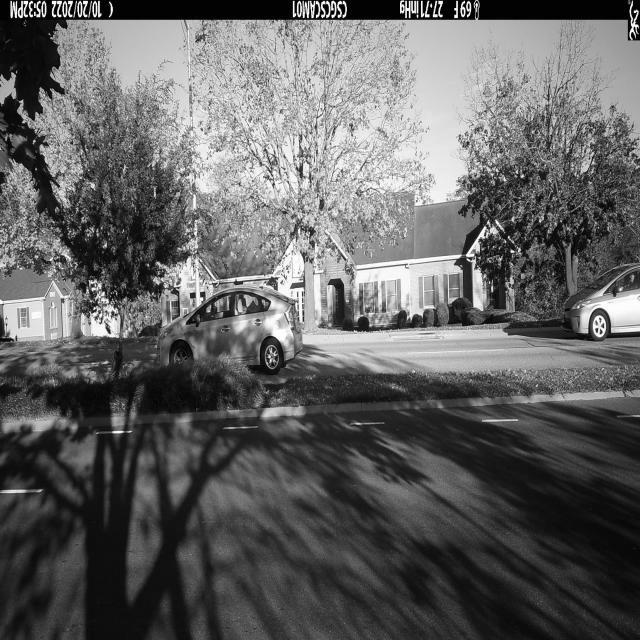Hatchback: (158, 285, 303, 375)
